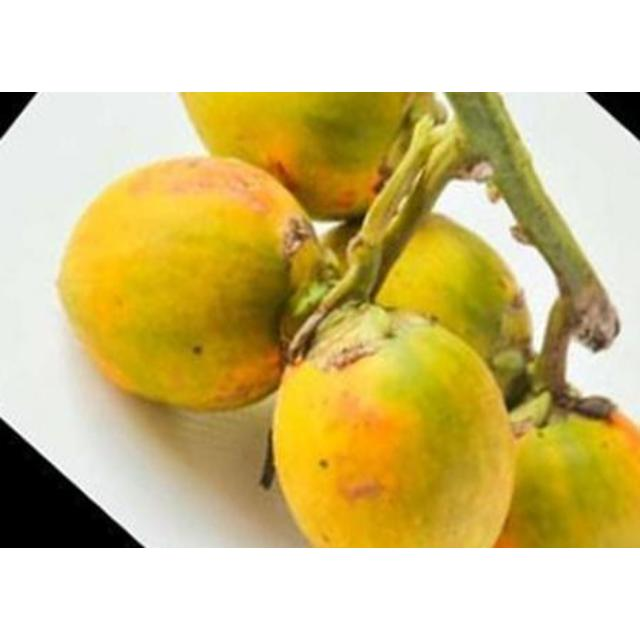good: (37, 136, 327, 418), (278, 178, 570, 412), (236, 318, 520, 548), (166, 92, 440, 244), (446, 380, 640, 548)
